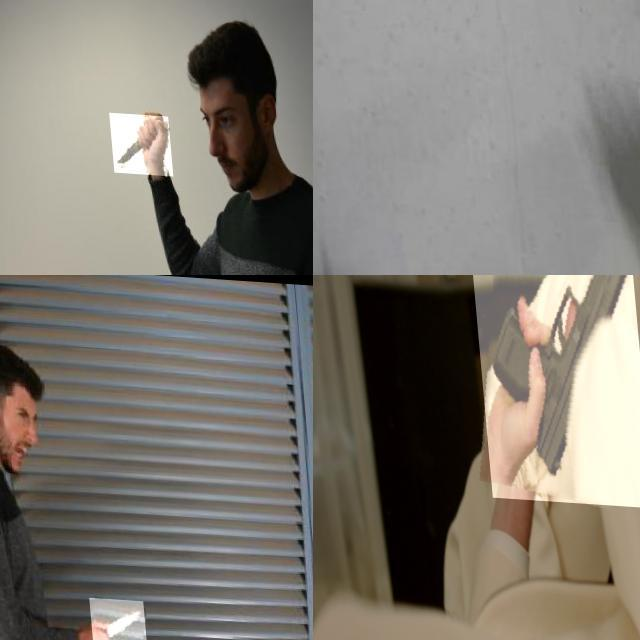-: (414, 0, 592, 42), (104, 108, 168, 171), (83, 593, 141, 640)
gun-knife-thesis - v11 Yolov5 augmented: (464, 275, 640, 503)
